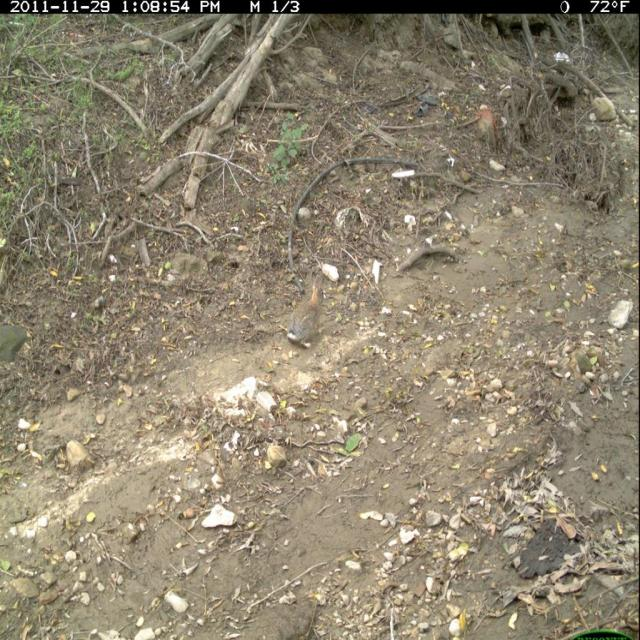rabbit: (286, 269, 328, 351)
